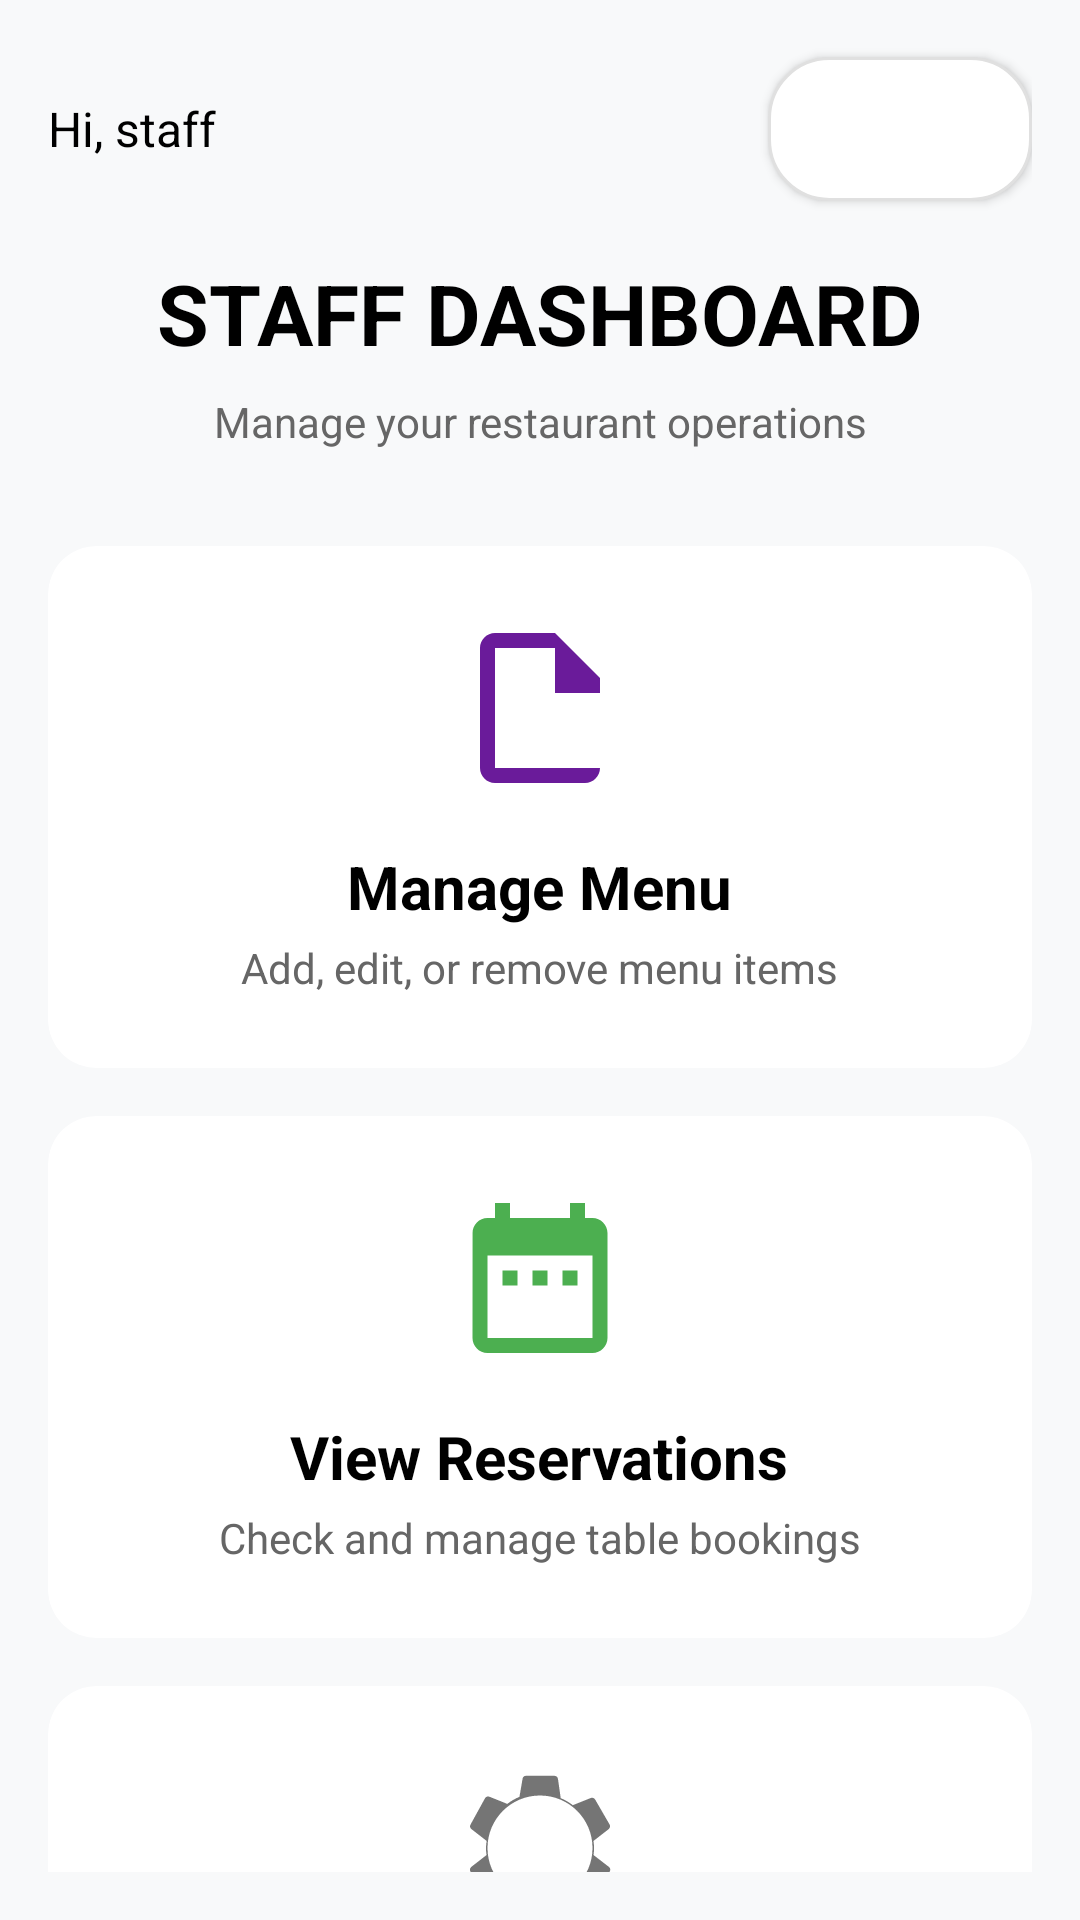

Icon bounding boxes for this 1080 × 1920 phone screenshot, format {"left": x1, "top": y1, "right": x2, "bottom": y2}:
calendar: {"left": 472, "top": 1203, "right": 608, "bottom": 1353}
document: {"left": 480, "top": 633, "right": 600, "bottom": 783}
